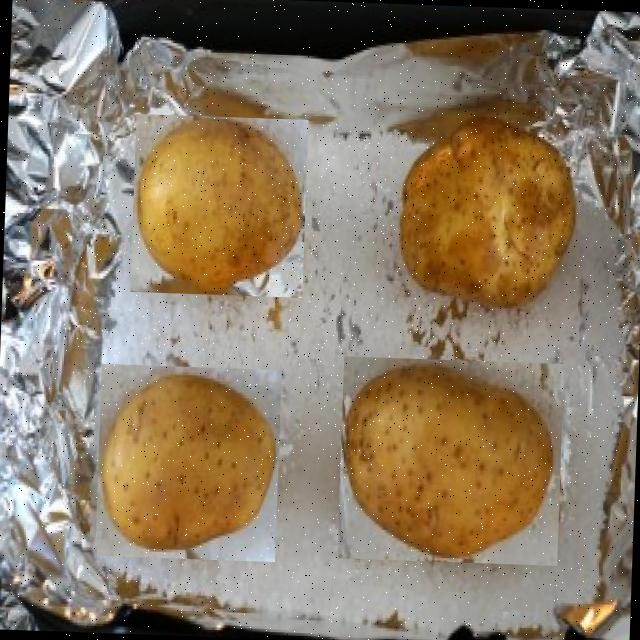Potato: (336, 354, 562, 564), (94, 362, 280, 560), (394, 108, 576, 310), (128, 112, 308, 296)
